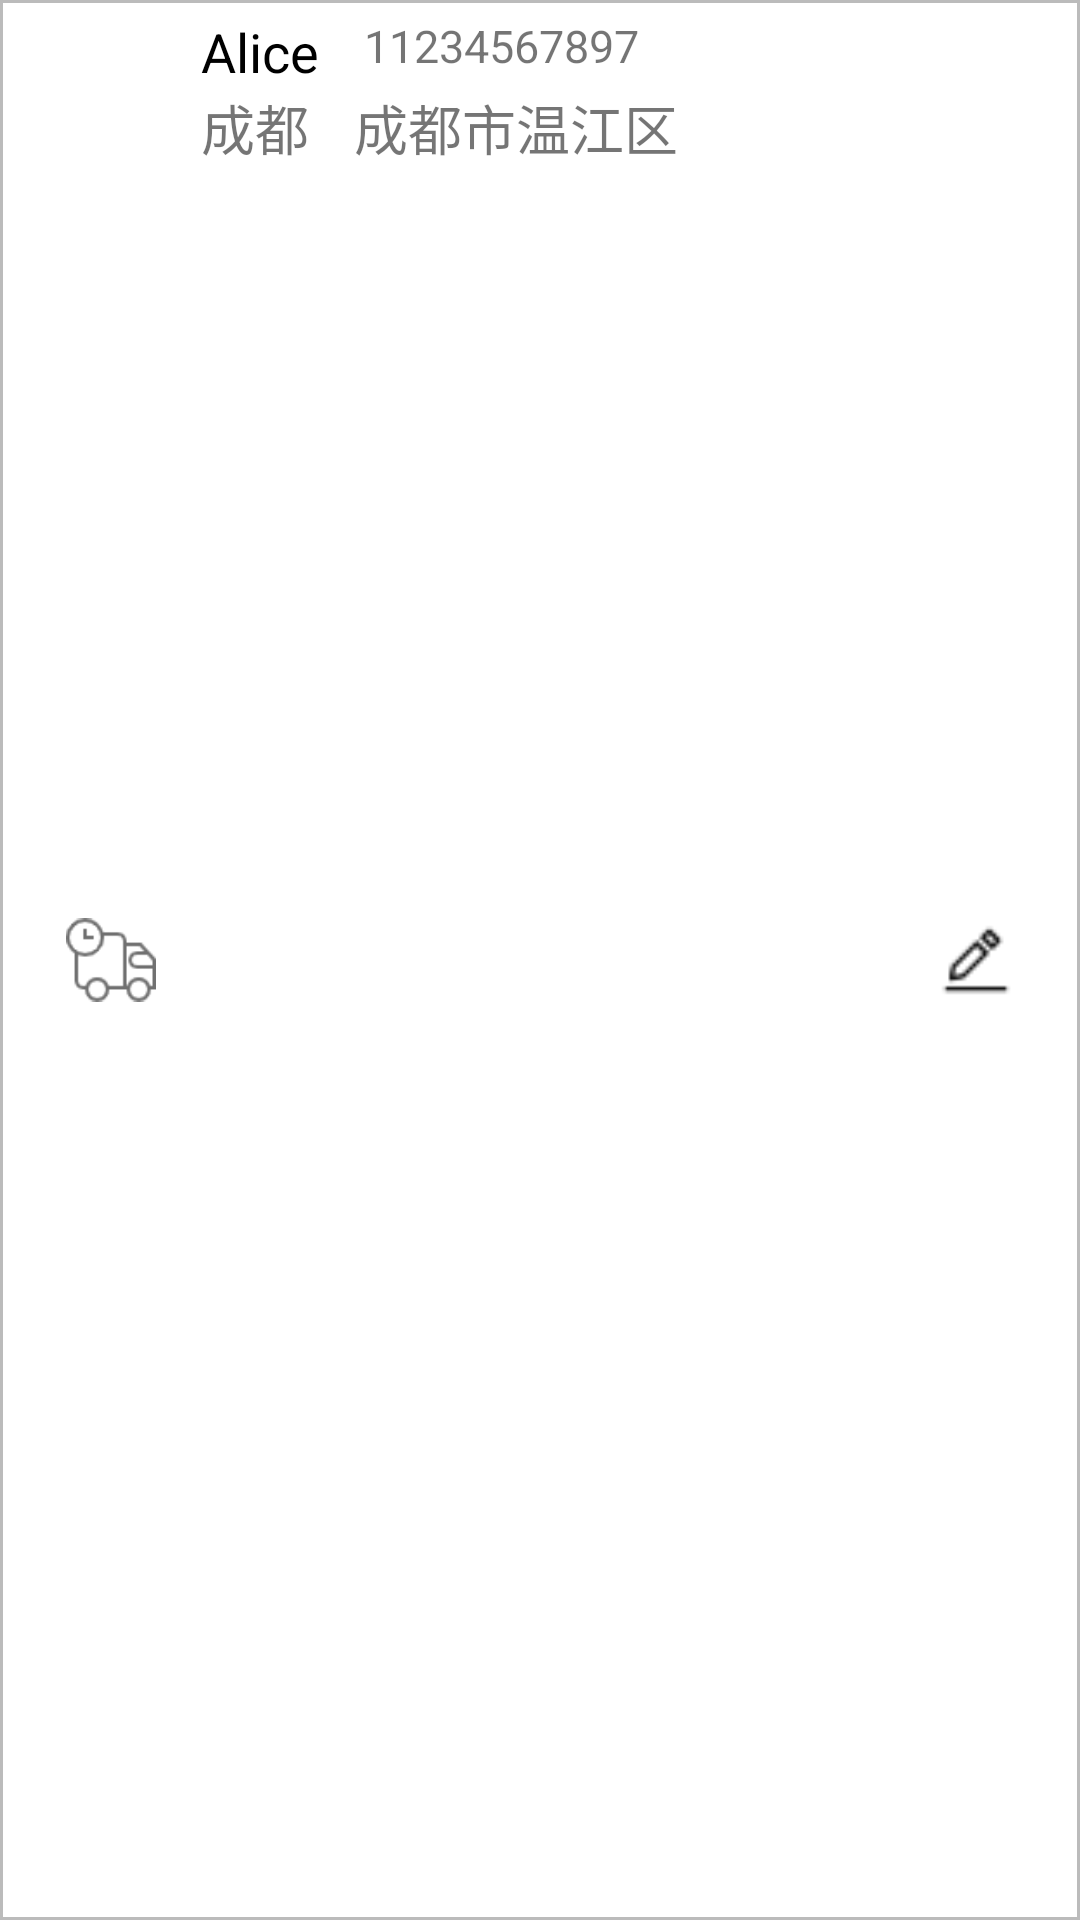

Icon bounding boxes for this 1080px x 1920px phone screenshot, format (x1, y1, x2, y2):
fahuo: (66, 918, 156, 1002)
